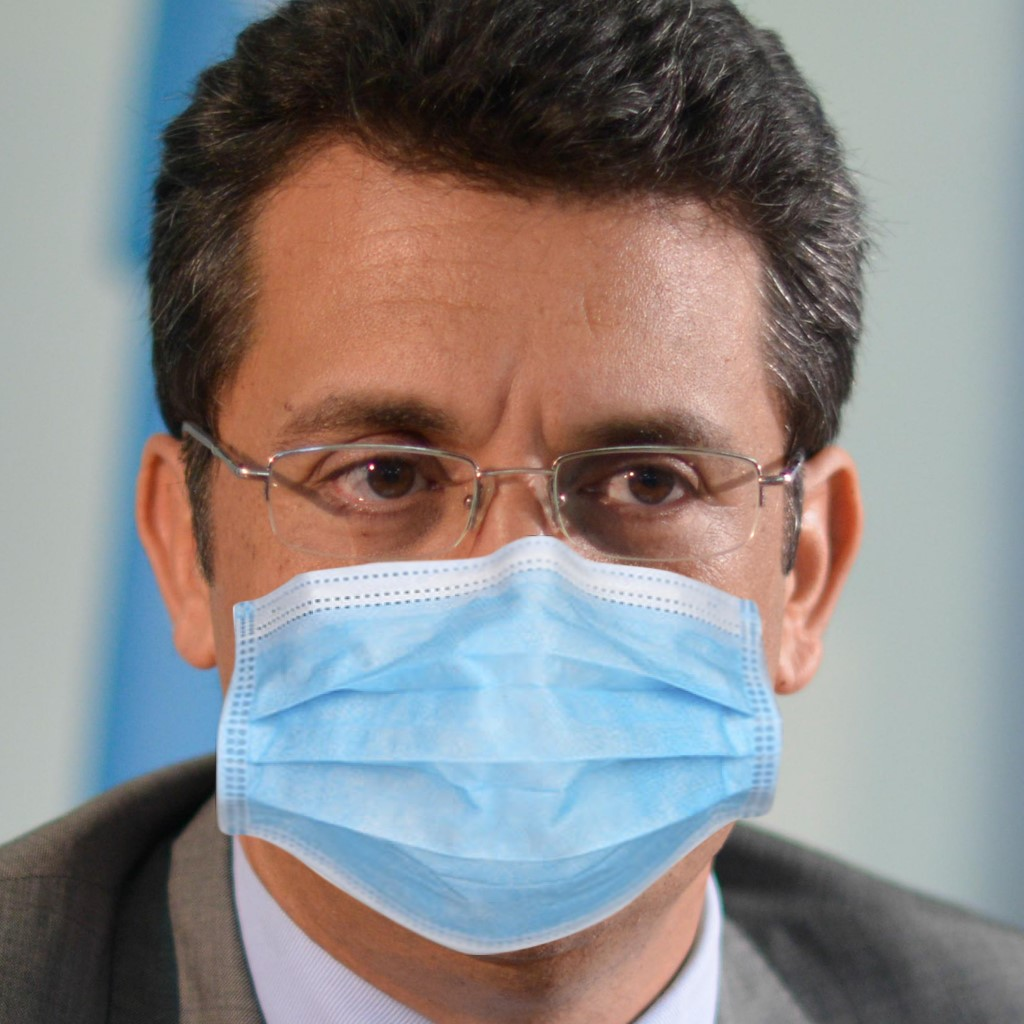con_mascara: (158, 100, 829, 935)
